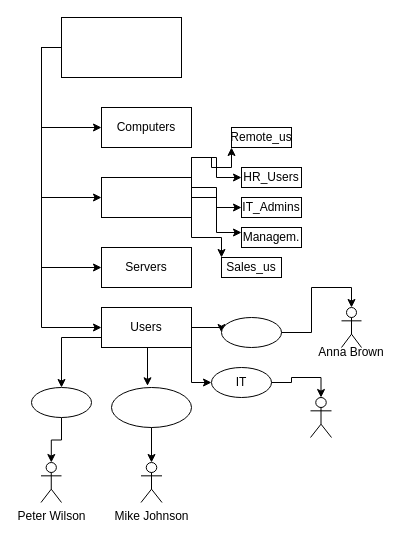
Some shapes in this 409 by 541 pixel diagram are drawn without their labels. Each missing label, with the centre of its shape:
"Group" goes at (146,197).
"homelab.local" goes at (121,47).
"HR" goes at (251,332).
"John Smith" goes at (321,417).
"Management" goes at (151,407).
"Sale" goes at (61,402).
